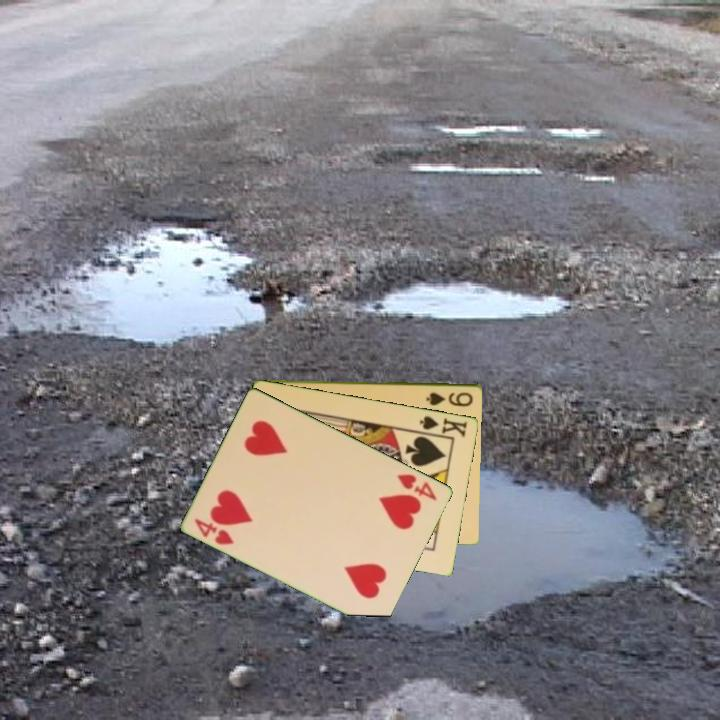4h: (394, 470, 441, 503), (191, 515, 237, 548)
9s: (423, 388, 476, 409)
Ks: (414, 412, 470, 440)
